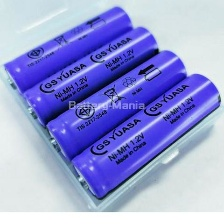battery: (70, 70, 222, 202), (44, 47, 192, 167), (17, 22, 164, 131), (3, 0, 137, 99)
